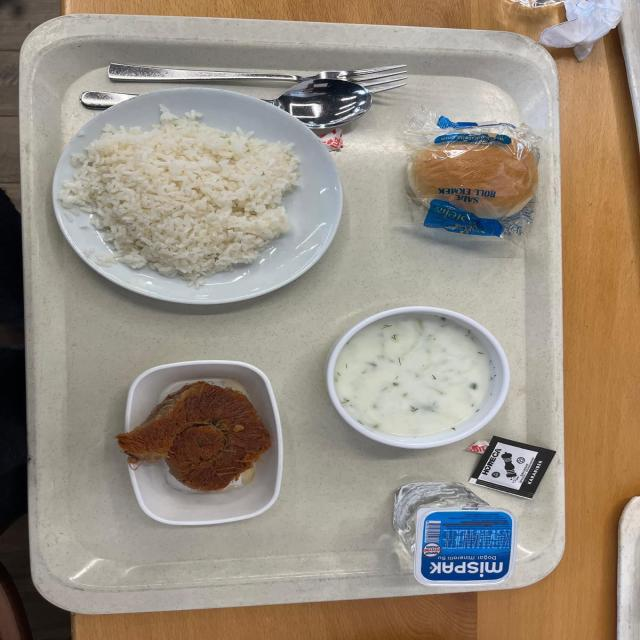ana_yemek: (78, 91, 326, 301)
corba: (320, 311, 515, 452)
yan_yemek: (132, 365, 281, 530)
